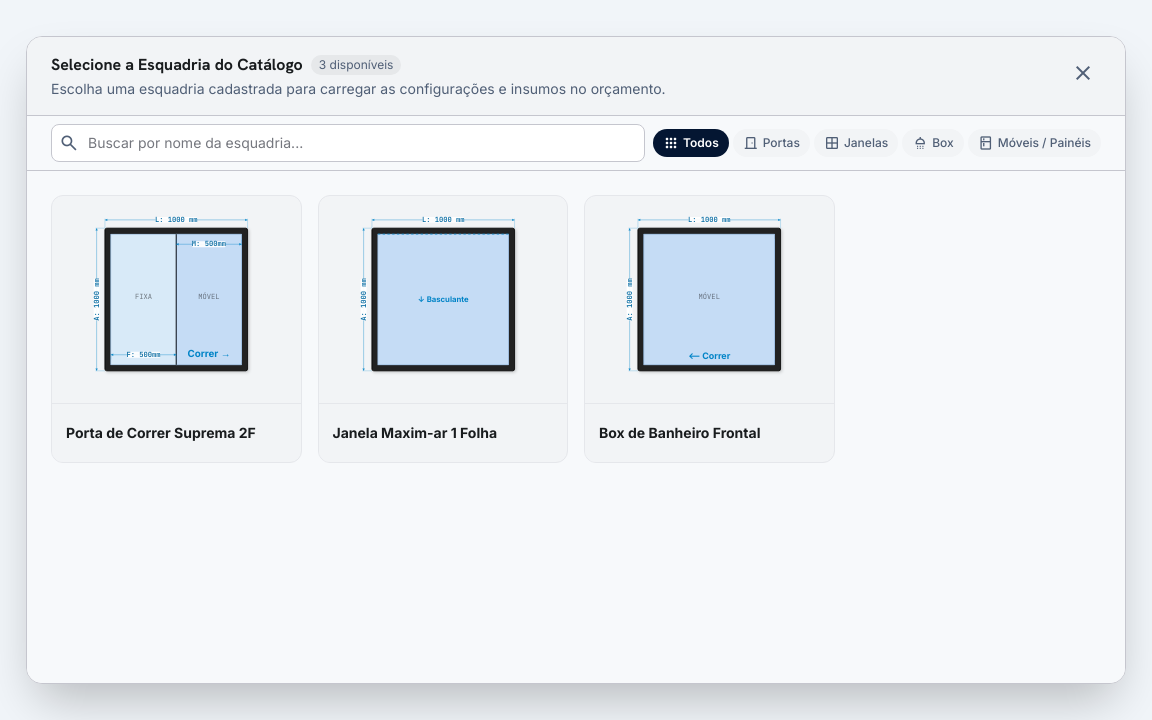
Scenario: ProductPickerModal (Modal de Seleção de Esquadria Pré-Cadastrada) › deve filtrar os produtos pelo campo de busca por nome
In the field with placeholder "Buscar por nome da esquadria...": point(348, 143) [51,124,645,162], type "Maxim-ar"
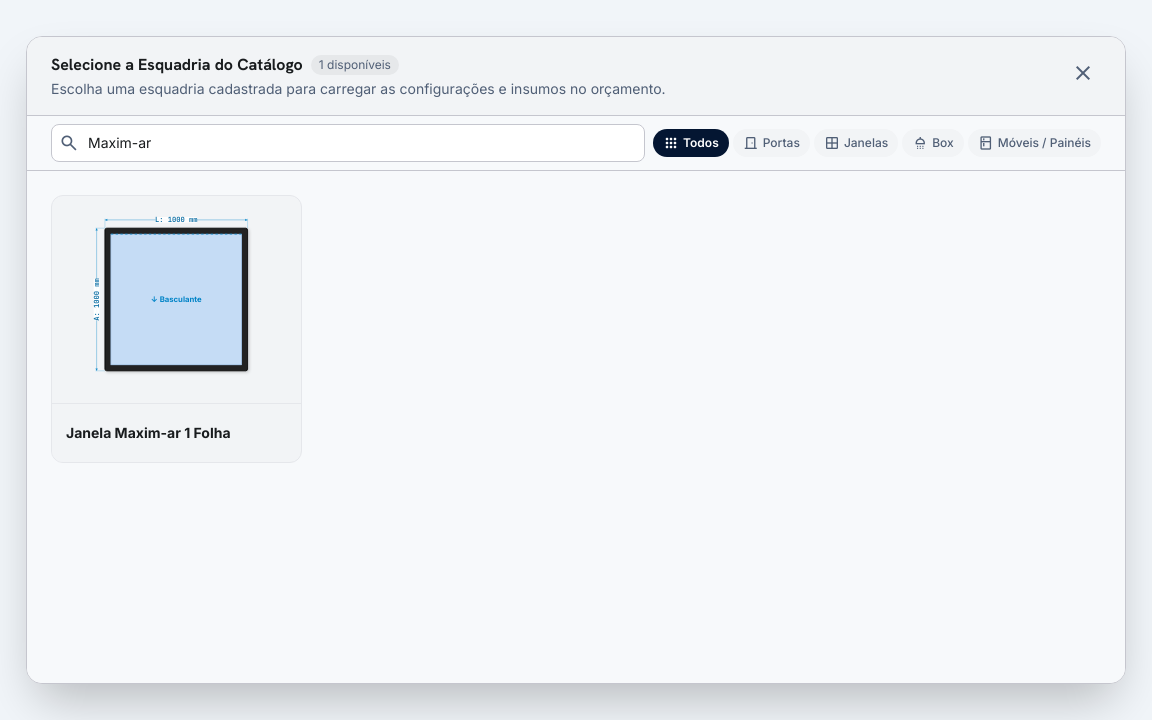
Expected: the heading "Janela Maxim-ar 1 Folha" is shown, [66,423,231,443]
Result: the button "Porta de Correr Suprema 2F" is gone
Result: the button "Box de Banheiro Frontal" is gone
